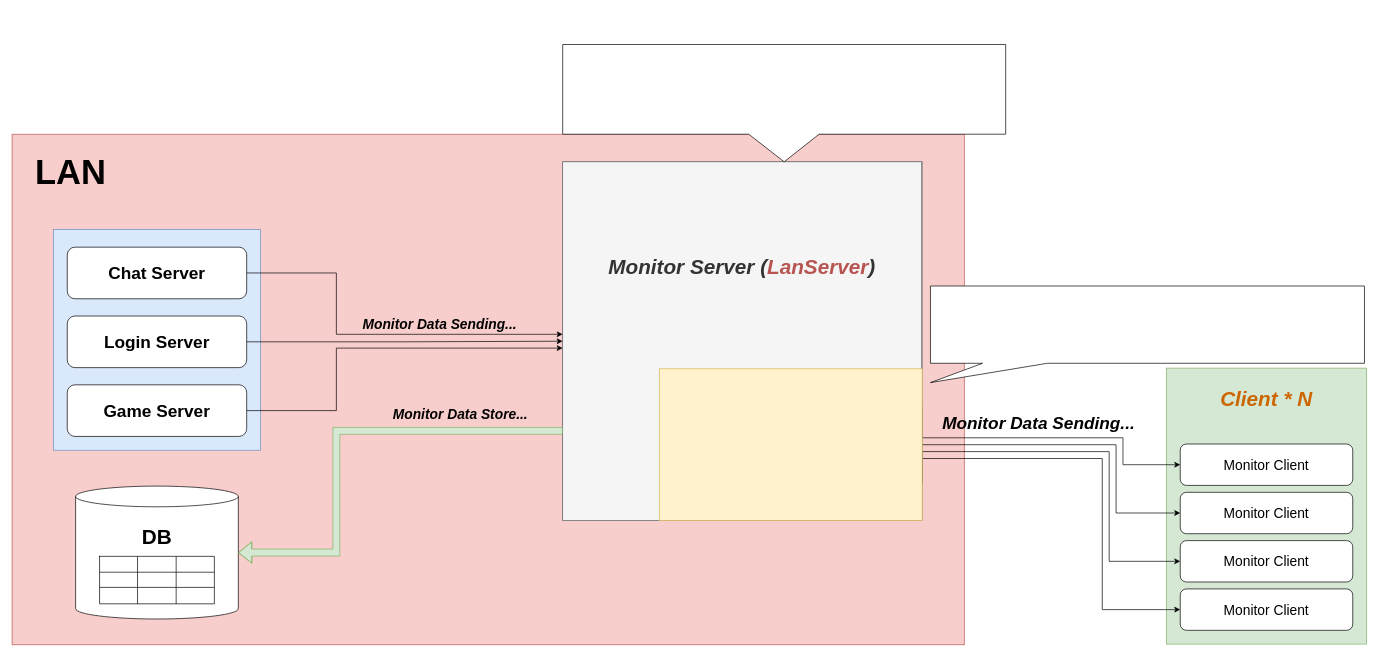
Some shapes in this 1399 by 657 pixel diagram are drawn without their labels. The shapes that lost their labels are listed below. From the top down, each one's centre as x and y in pixels, then its label:
At pixel 784 103: "Monitor LanServer Job 1 . 서버가 보내는 모니터링 데이터 수집 Job 2 . 정해진 시간마다 모니터링 데이터를 DB에 저장".
At pixel 1147 334: "Monitor NetServer Job . 정해진 시간마다 모든 클라이언트 대상으로 모니터링 데이터 송신".
At pixel 790 444: "Monitor Server ( NetServer )".
